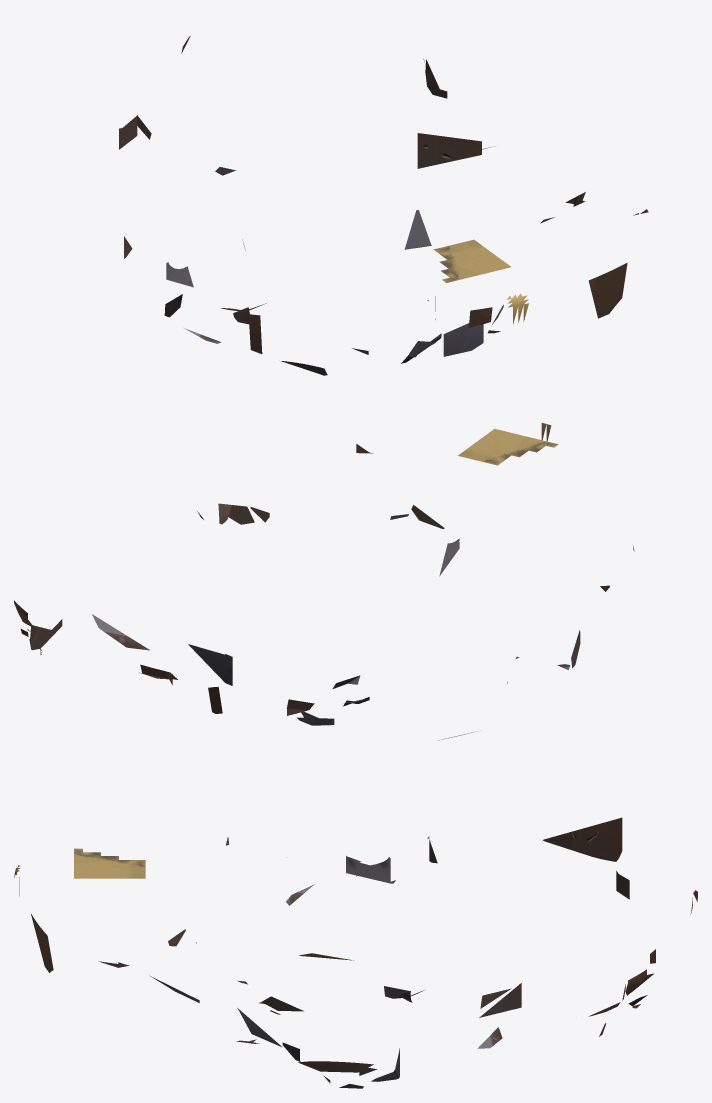
The picture shows the model from 3 angles, top to bottom: view 1: azimuth 30°, elevation 25°; view 2: azimuth 150°, elevation 25°; view 3: azimuth 270°, elevation 25°; orthographic projection. The views are drawn at different scales.
Parts seen in each view (by area): view 1: Grass_-1_-4_0, Dirt_2_1_-1_001, Dirt_1_-5_0_011, Columns_0_-2_-2_100_000, Columns_1_0_-1_011; view 2: Grass_-1_-4_0, Columns_1_0_-2_110, Dirt_2_-2_-1_111; view 3: Dirt_-4_3_-1_100_101_110, Grass_-1_-4_0, Dirt_1_1_-1_110_010, Dirt_4_-1_-1_111, Columns_-3_0_-1_000.
Boxes of the visible parts, bbox=[...] form: Grass_-1_-4_0: bbox=[433, 239, 511, 282]; Dirt_2_1_-1_001: bbox=[417, 133, 481, 168]; Dirt_1_-5_0_011: bbox=[593, 262, 627, 318]; Columns_0_-2_-2_100_000: bbox=[443, 323, 483, 356]; Columns_1_0_-1_011: bbox=[404, 210, 431, 249]; Grass_-1_-4_0: bbox=[458, 428, 558, 465]; Columns_1_0_-2_110: bbox=[189, 644, 232, 685]; Dirt_2_-2_-1_111: bbox=[218, 503, 254, 524]; Dirt_-4_3_-1_100_101_110: bbox=[543, 817, 622, 861]; Grass_-1_-4_0: bbox=[74, 848, 145, 878]; Dirt_1_1_-1_110_010: bbox=[479, 983, 521, 1017]; Dirt_4_-1_-1_111: bbox=[298, 1061, 373, 1072]; Columns_-3_0_-1_000: bbox=[353, 857, 395, 883].
Bounding box in the file's own units: 597 × 190 × 610.
Materials: 58 (58 with a texture image).
